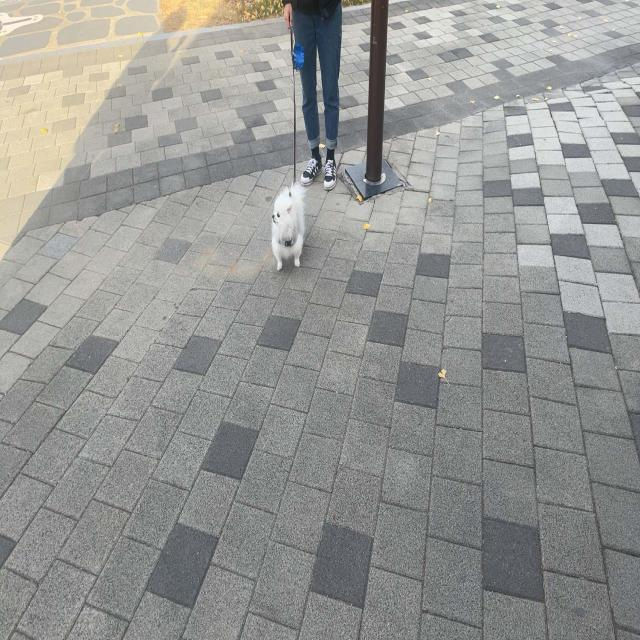Leashed_Dog: (271, 0, 315, 270)
